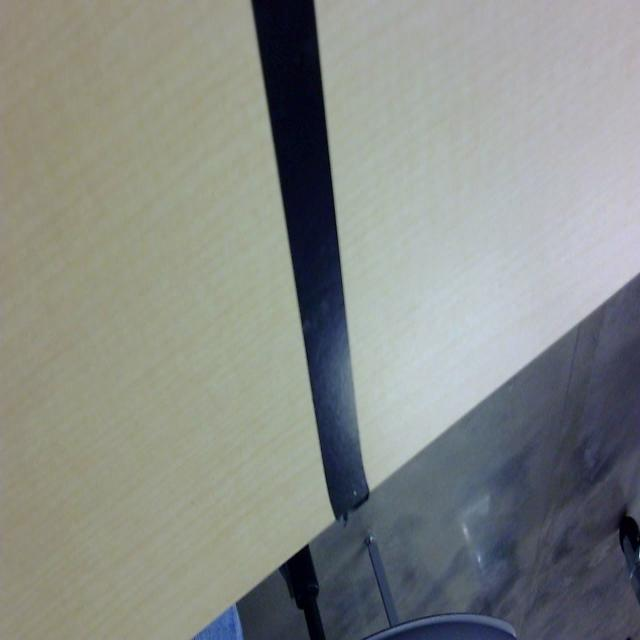tape: (236, 0, 381, 564)
